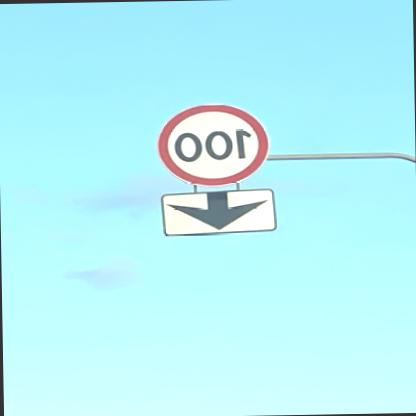speedlimit: (158, 101, 272, 186)
